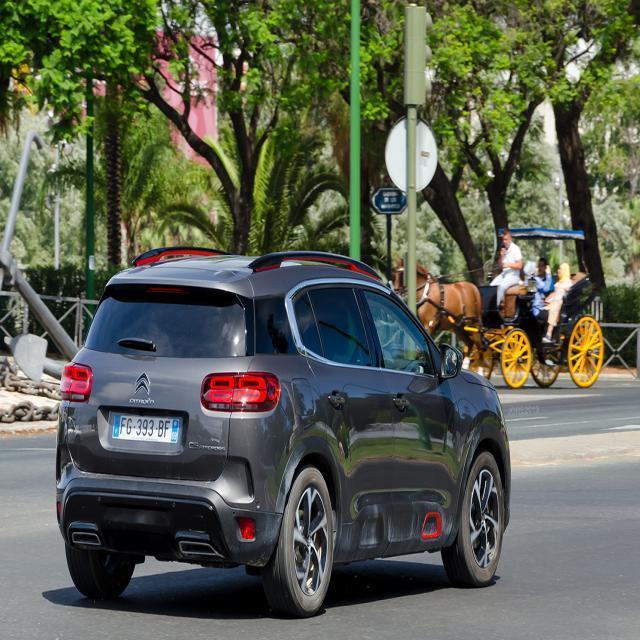EU: (110, 414, 178, 444)
France: (114, 416, 120, 438)
